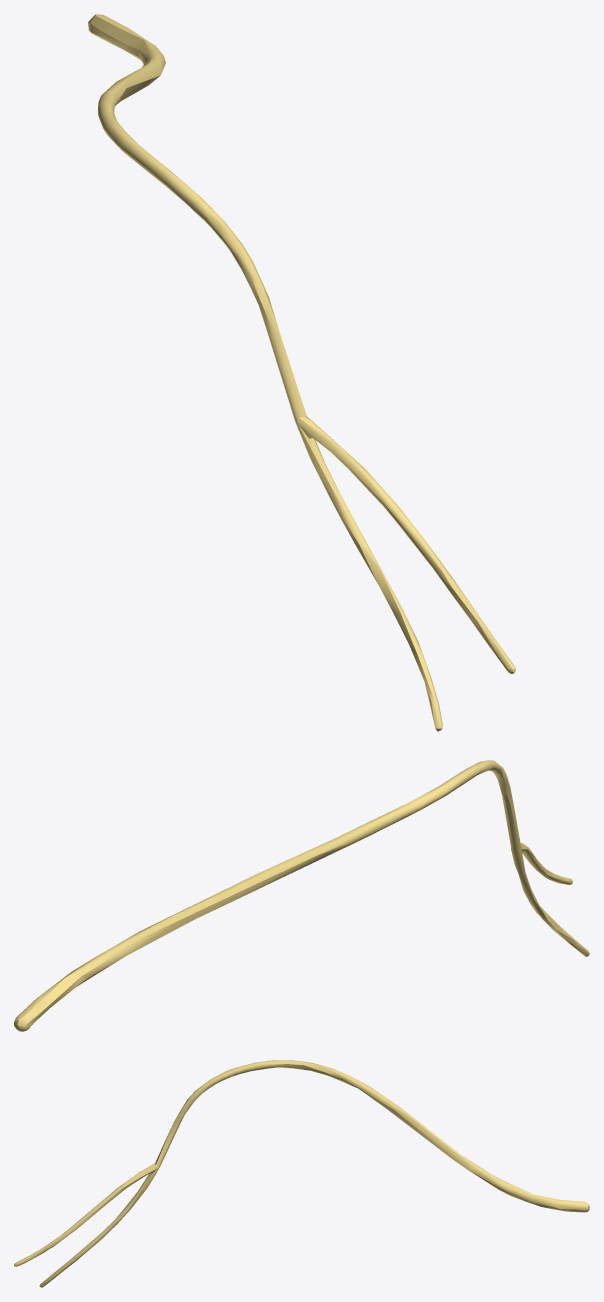
File: fma52689_fj4026.glb
3 renders of one model, top to bottom at view 1: azimuth 30°, elevation 25°; view 2: azimuth 150°, elevation 25°; view 3: azimuth 270°, elevation 25°, orthographic. The views are drawn at different scales.
Visible parts, largest first — view 1: FMA52689_FJ4026; view 2: FMA52689_FJ4026; view 3: FMA52689_FJ4026.
Boxes of the visible parts, left/top/right/bottom form: FMA52689_FJ4026: left=88, top=14, right=515, bottom=731; FMA52689_FJ4026: left=14, top=760, right=589, bottom=1031; FMA52689_FJ4026: left=14, top=1060, right=589, bottom=1287.
Size of the model in its own units: 0.00692 by 0.00996 by 0.0245.
